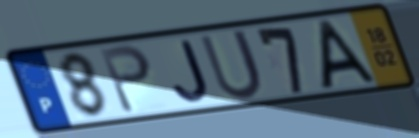7: (253, 26, 305, 96)
8: (58, 50, 111, 121)
A: (318, 17, 381, 92)
J: (170, 37, 213, 105)
P: (96, 42, 155, 117)
U: (196, 27, 265, 103)
